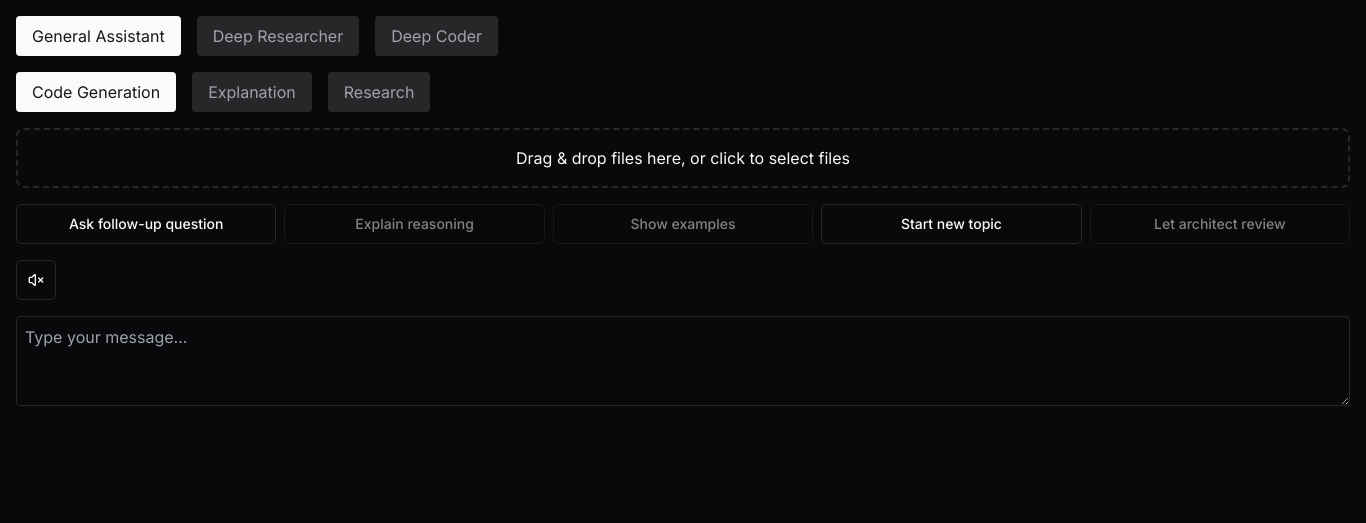
Test: Index Component › handles API errors gracefully
Step 1. Type "Test message" into the text box with placeholder "Type your message..." → (683, 361), box [16, 316, 1350, 406]
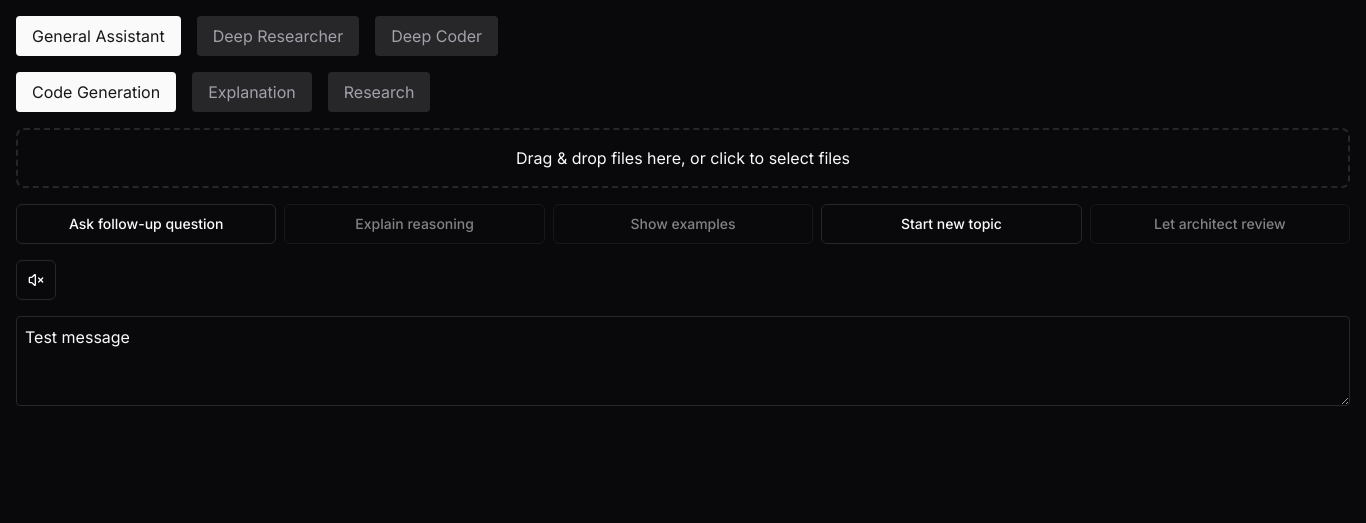
Step 2. Press Enter in the text box with placeholder "Type your message...", box [16, 316, 1350, 406]
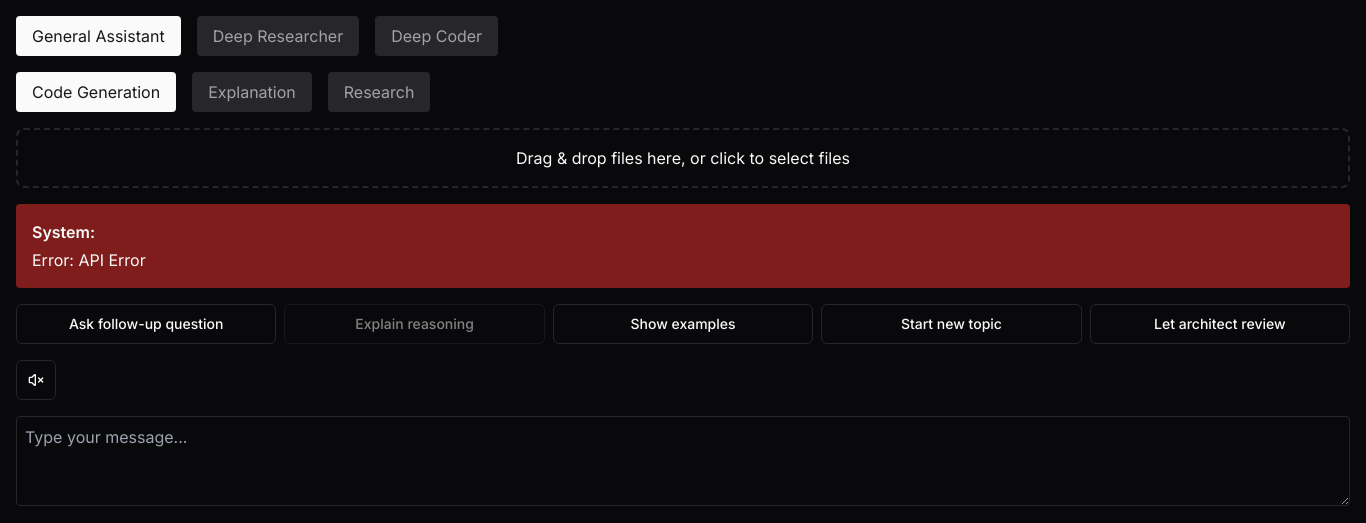
Check: the text "Error: API Error" is shown, box [32, 250, 146, 270]
